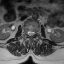CCS_normal: (30, 28, 32, 38)
LFS_normal: (34, 29, 37, 36)
LLS_normal: (32, 29, 34, 37)
RFS_normal: (25, 28, 27, 36)
RLS_normal: (27, 28, 30, 37)
